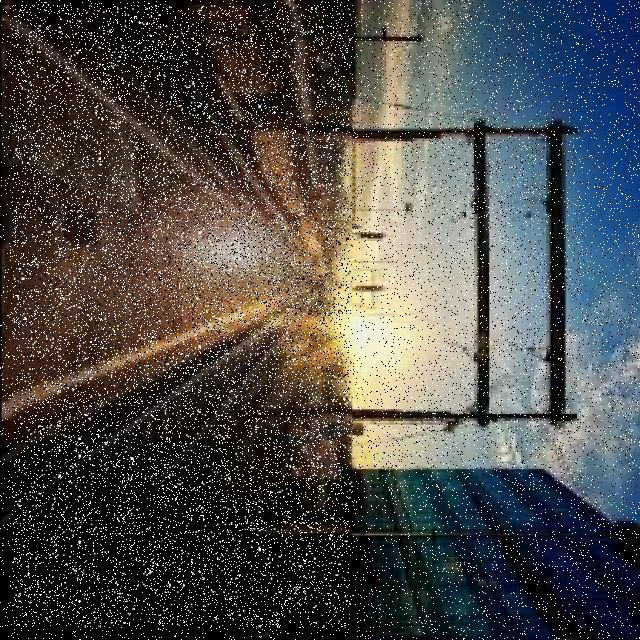rail: (14, 6, 350, 628)
